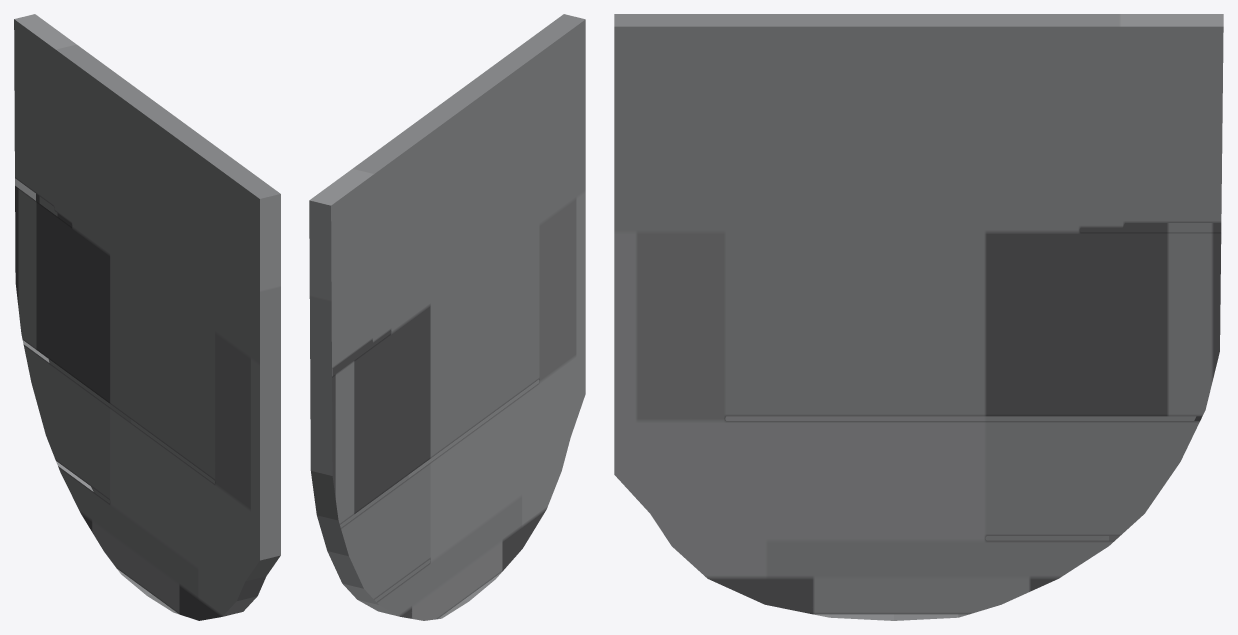
3 renders of one model, left to right at view 1: azimuth 30°, elevation 25°; view 2: azimuth 150°, elevation 25°; view 3: azimuth 270°, elevation 25°, orthographic. The views are drawn at different scales.
Size of the model in its own units: 0.042 by 0.915 by 0.85.
